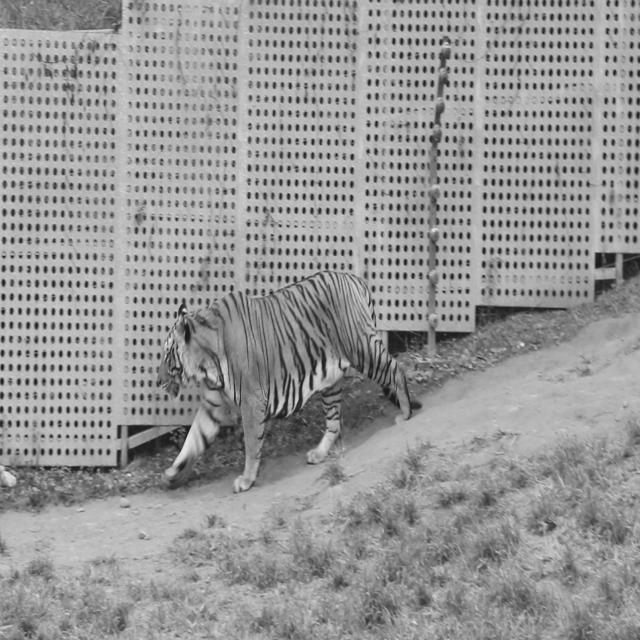Tiger: (156, 268, 412, 494)
